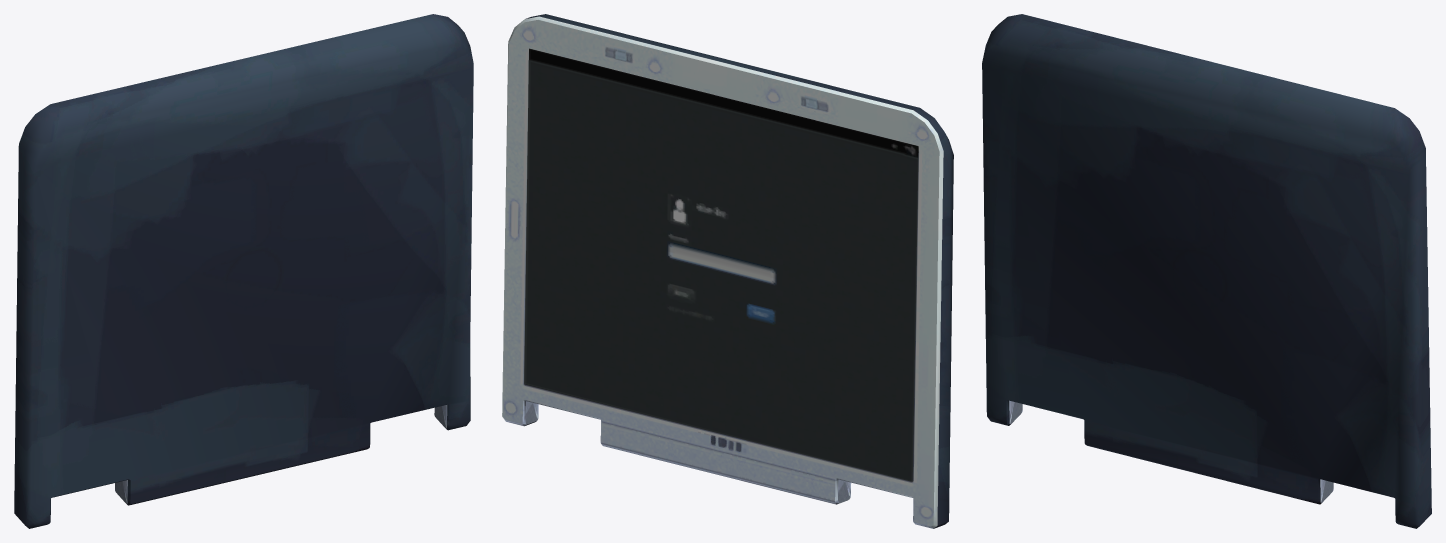
Rendered from Laptop1_H1.obj.
3 views of the same model, side by side, from view 1: azimuth 30°, elevation 25°; view 2: azimuth 150°, elevation 25°; view 3: azimuth 330°, elevation 25° (orthographic).
Visible parts, largest first — view 1: Laptop1_H1; view 2: Laptop1_H1; view 3: Laptop1_H1.
Boxes of the visible parts, x1,y1,x2,y2 form: Laptop1_H1: (14,14,473,528); Laptop1_H1: (502,14,953,528); Laptop1_H1: (982,14,1431,528).
Size of the model in its own units: 0.2607 by 0.2335 by 0.0243.
Materials: 2 (2 with a texture image).
